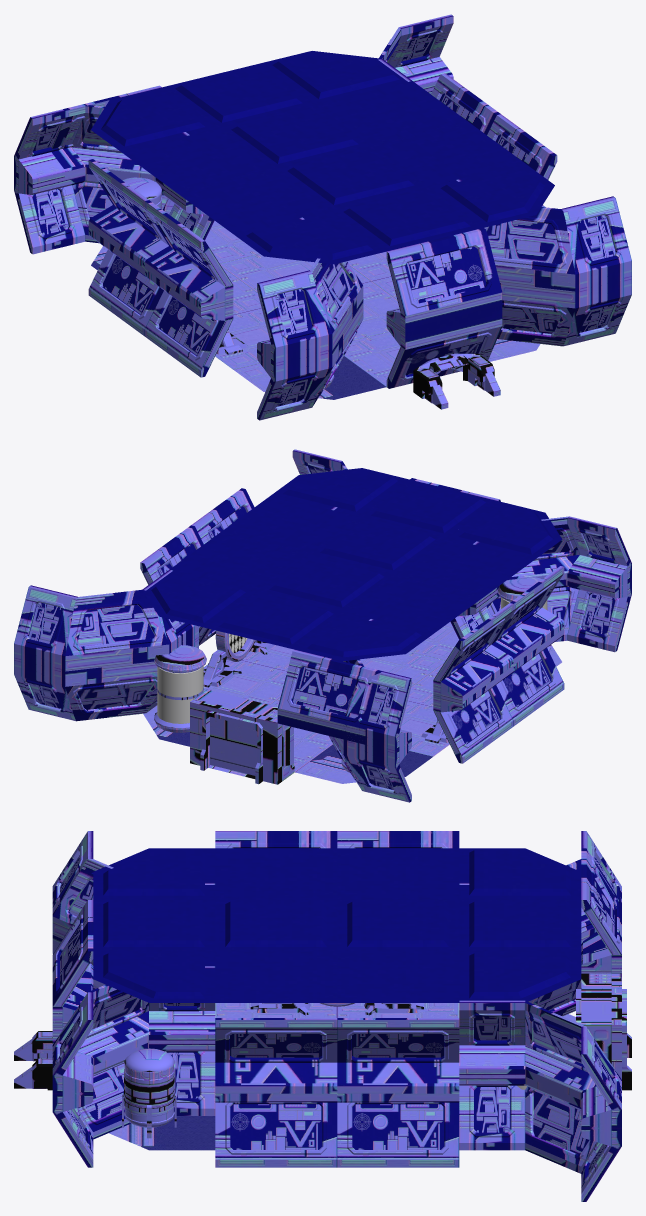
File: Space_Station.glb
The picture shows the model from 3 angles, top to bottom: view 1: azimuth 30°, elevation 25°; view 2: azimuth 150°, elevation 25°; view 3: azimuth 270°, elevation 25°; orthographic projection. The views are drawn at different scales.
Parts seen in each view (by area): view 1: Space_Station; view 2: Space_Station; view 3: Space_Station.
Boxes of the visible parts, left/top/right/bottom form: Space_Station: left=14, top=14, right=631, bottom=420; Space_Station: left=14, top=449, right=631, bottom=802; Space_Station: left=14, top=831, right=631, bottom=1201.
Size of the model in its own units: 156 by 49.59 by 182.
10 materials, 9 textured.
